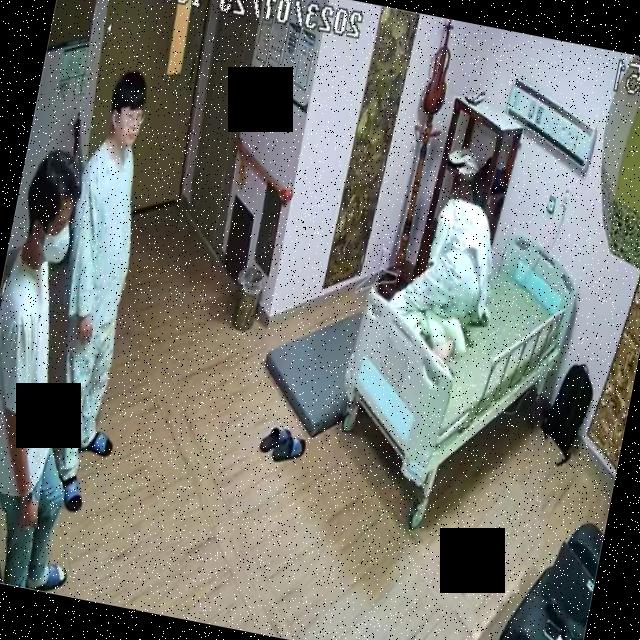danger: (380, 172, 514, 370)
patient: (19, 64, 184, 518), (378, 172, 514, 370)
